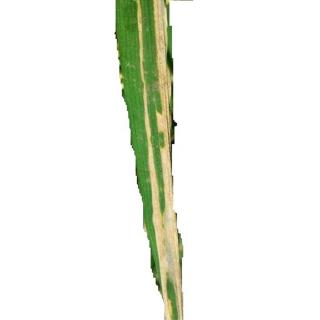Hawar-Daun: (131, 2, 191, 320)
